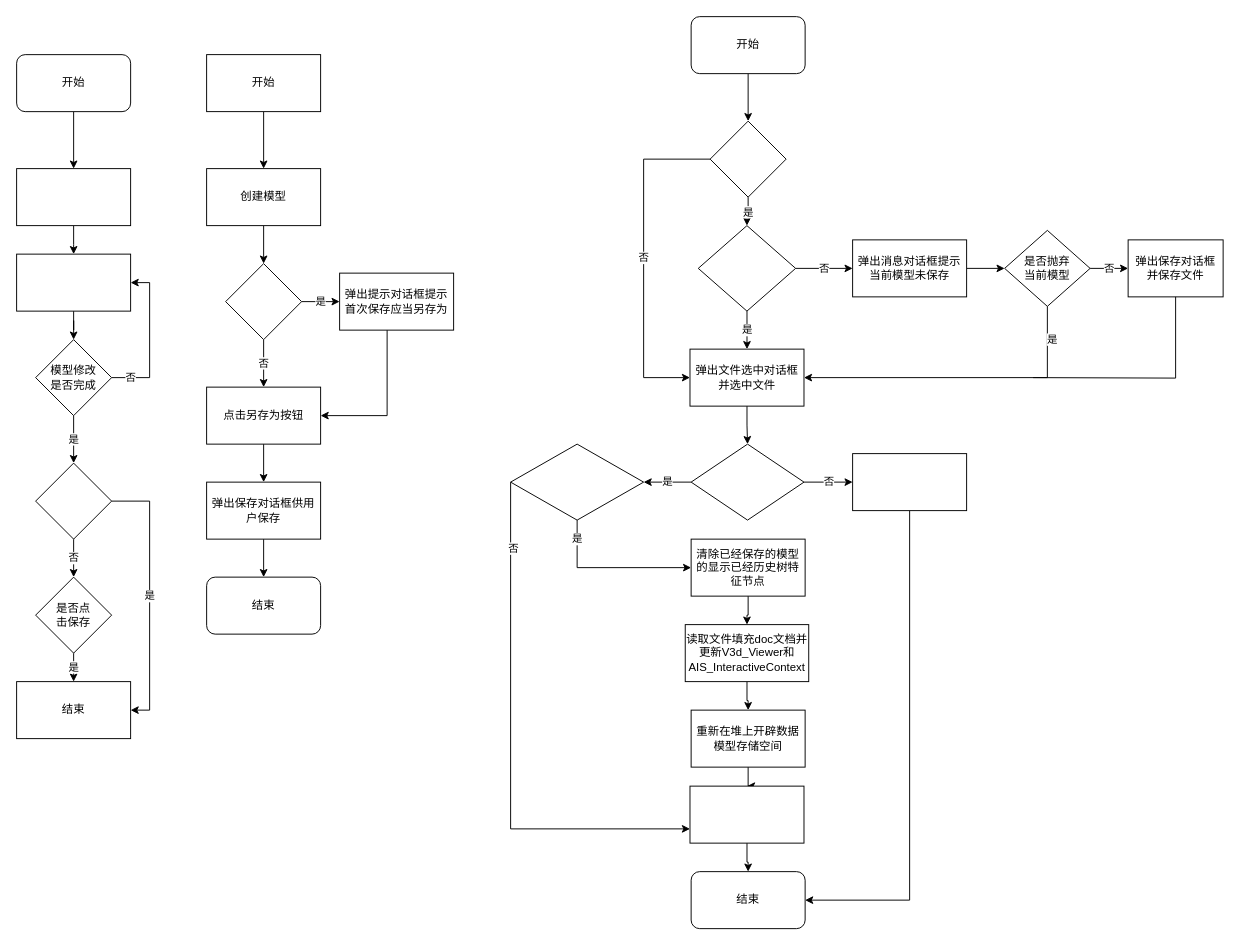
The diagram is 1240 pixels wide and 945 high, and some of its shapes have lost their labels. Here are the shapes that lost their labels. From the top down, the box of each, then its label:
(709, 120, 786, 197): 是否已经 开始建模
(16, 168, 131, 226): 读取文件
(16, 253, 131, 311): 编辑修改模型
(697, 225, 796, 311): 建造的模型 是否已经保存
(225, 263, 302, 340): 是否点击 保存
(35, 462, 112, 539): 是否点击 另存为
(510, 443, 644, 520): 打开文件前是否 已经开始建模
(690, 443, 804, 520): 选中的文件是否 以cbf后缀结尾
(852, 453, 967, 511): 弹出消息对话框提示应打开以cbf结尾的文件
(689, 785, 804, 843): 读取文档内容重新生成特征对象存入数据模型并更新显示
